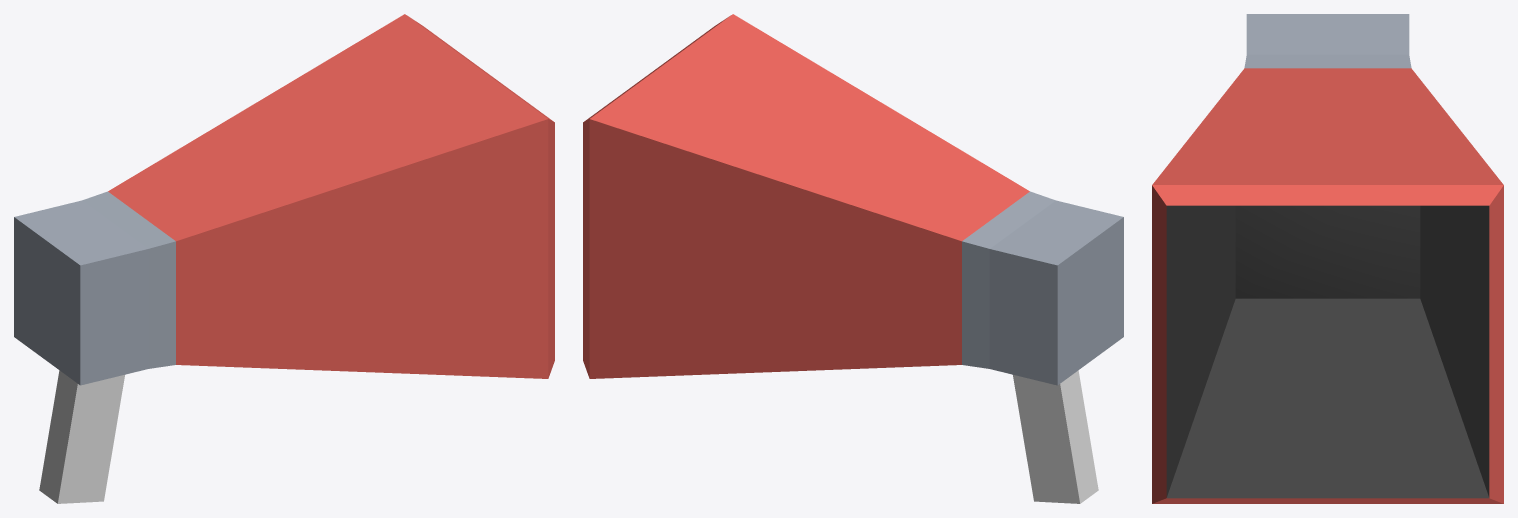
Rendered from Alto_Falante.fbx.
3 renders of one model, left to right at view 1: azimuth 30°, elevation 25°; view 2: azimuth 150°, elevation 25°; view 3: azimuth 270°, elevation 25°, orthographic. The views are drawn at different scales.
Visible parts, largest first — view 1: pCylinder1, pCube1; view 2: pCylinder1, pCube1; view 3: pCylinder1.
Boxes of the visible parts, x1,y1,x2,y2 form: pCylinder1: (14, 14, 554, 385); pCube1: (39, 370, 124, 503); pCylinder1: (583, 14, 1123, 385); pCube1: (1013, 370, 1098, 503); pCylinder1: (1152, 14, 1503, 503).
Size of the model in its own units: 1.96 by 1.1 by 1.42.
